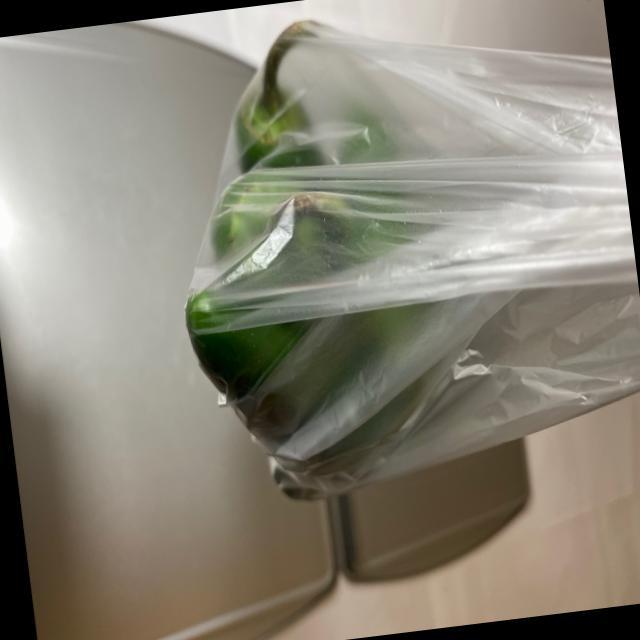chilli: (148, 8, 493, 534)
